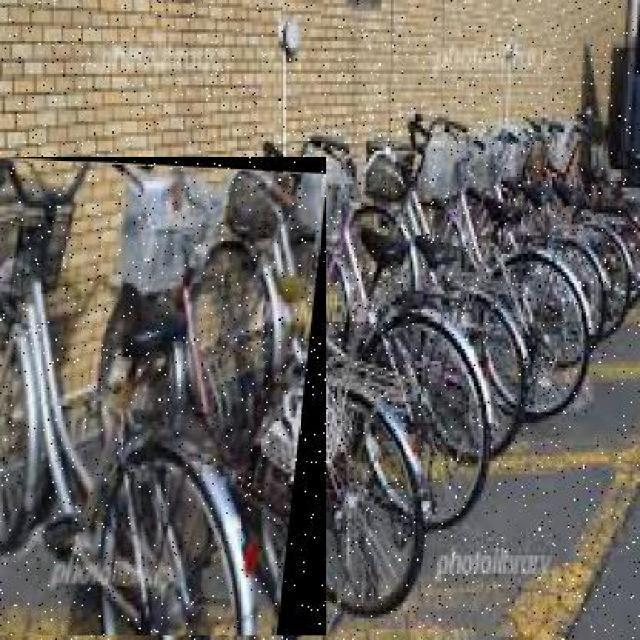bicycle: (1, 158, 329, 638)
